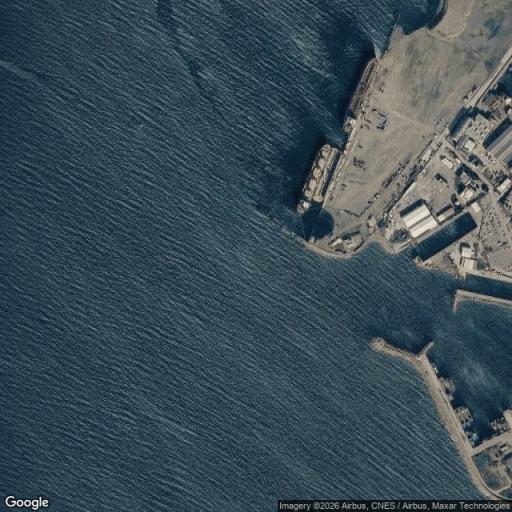ship: (343, 49, 384, 133), (297, 144, 340, 214), (455, 406, 473, 429), (440, 377, 455, 400), (492, 416, 510, 435)
